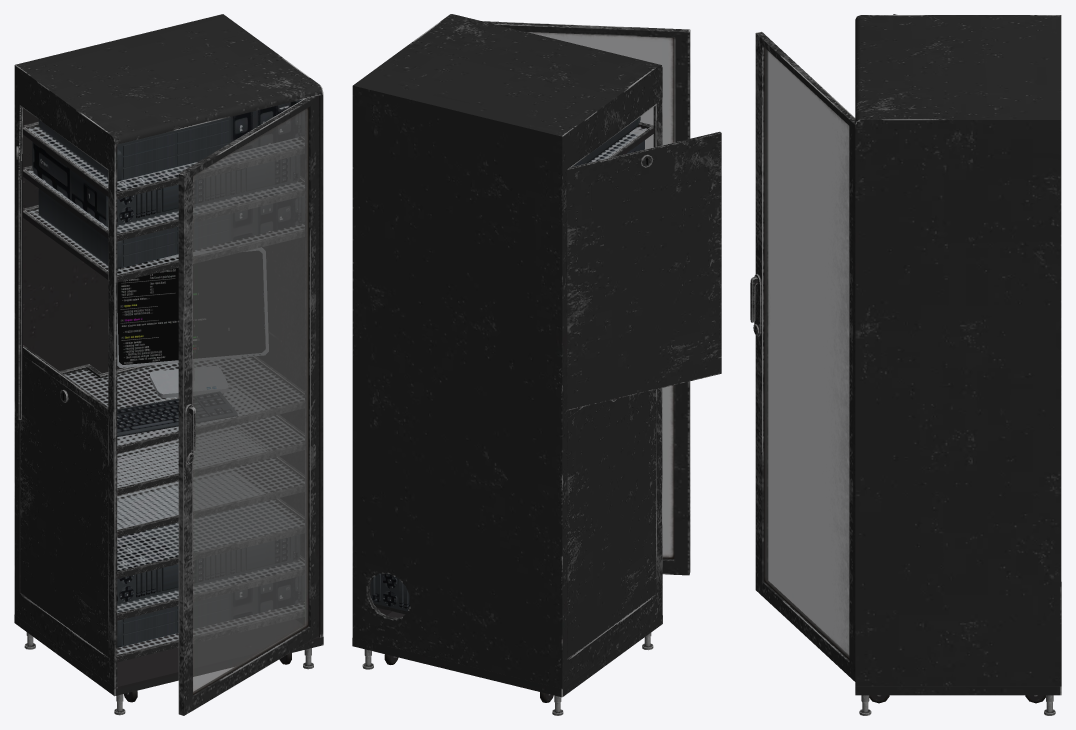
Rendered from server_box.glb.
3 renders of one model, left to right at view 1: azimuth 30°, elevation 25°; view 2: azimuth 150°, elevation 25°; view 3: azimuth 270°, elevation 25°, orthographic. The views are drawn at different scales.
Size of the model in its own units: 118 by 228 by 107.
5 materials, 5 textured.
